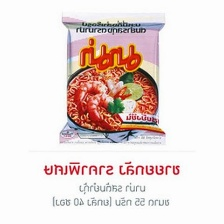snack: (52, 3, 176, 151)
